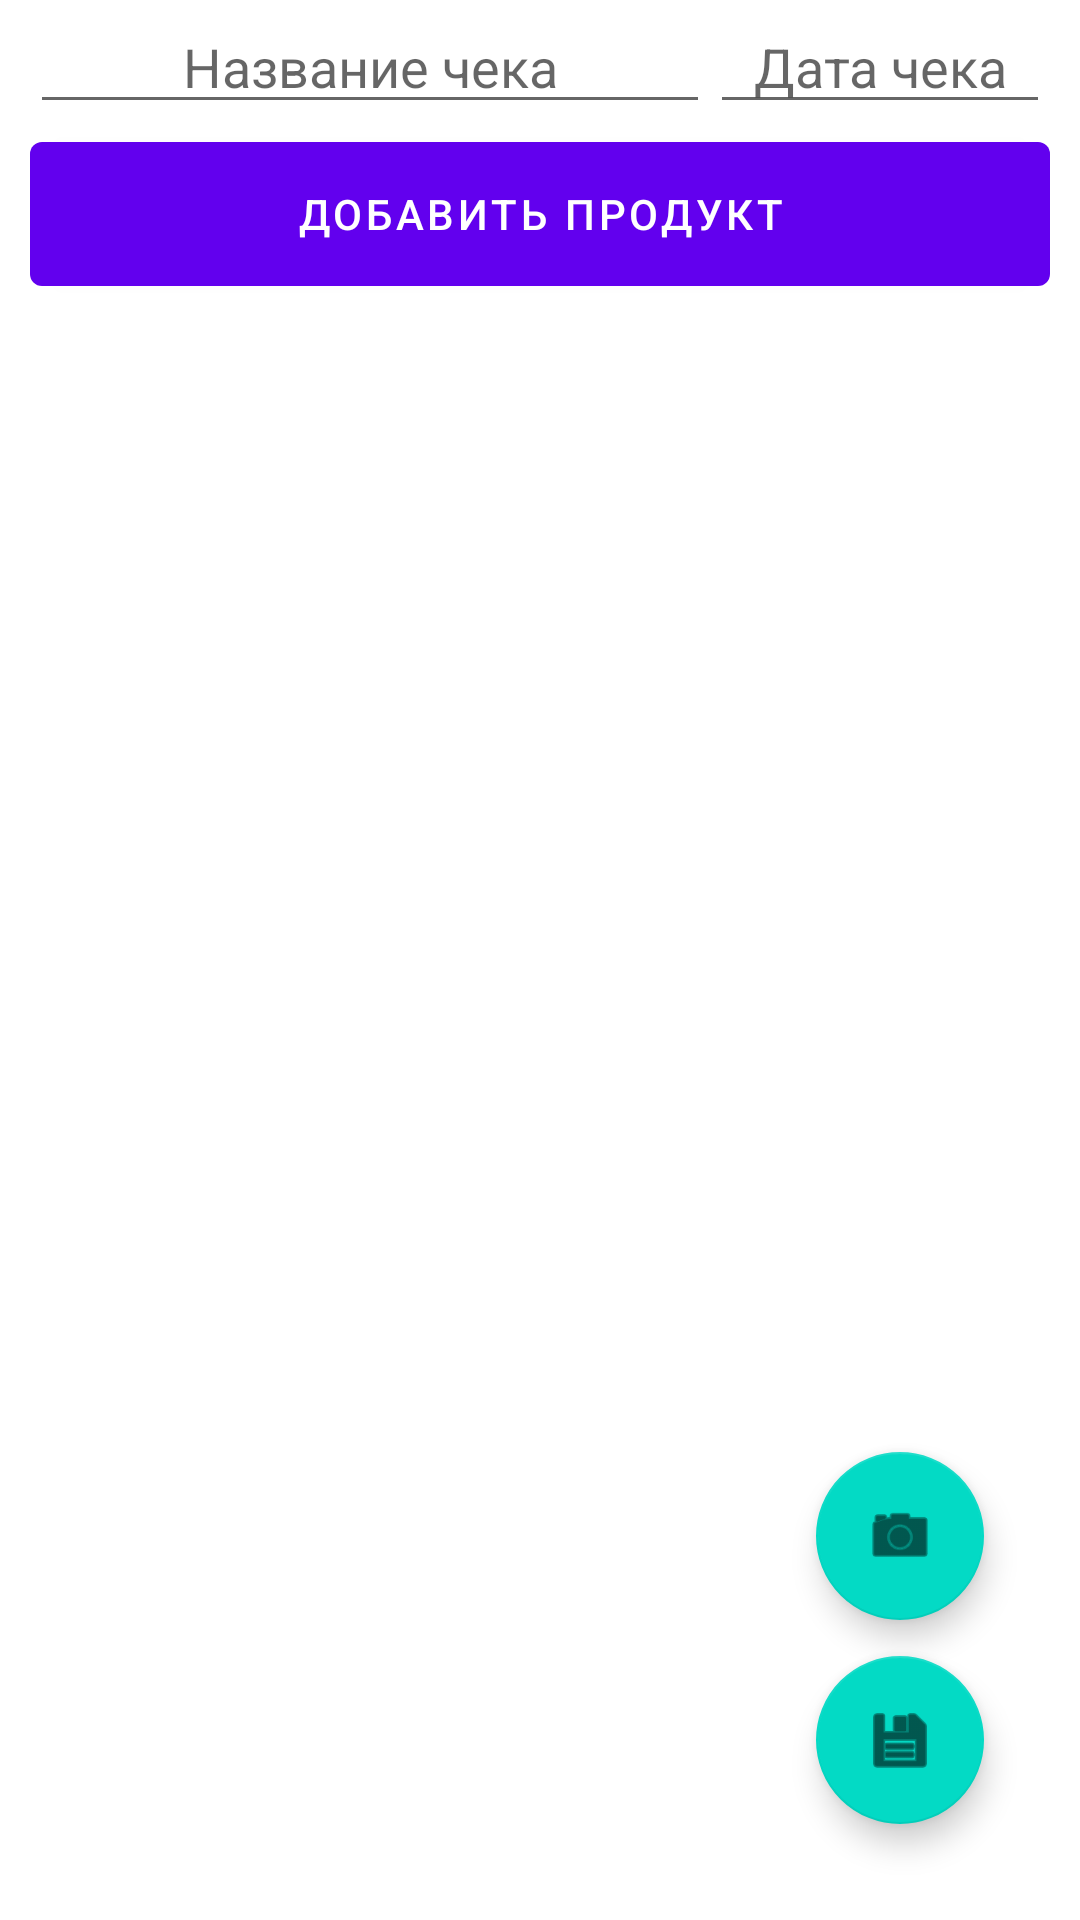

Locate icon controls on the screen. Image size 1080x1920, boxes as [x1, y1, x2, y2].
camera: [816, 1452, 984, 1620]
save: [816, 1656, 984, 1824]
